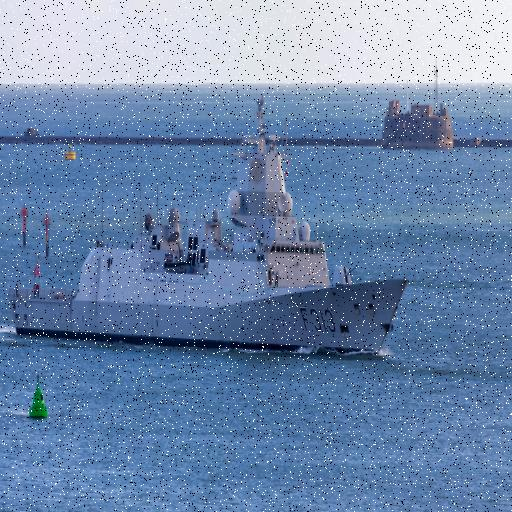Fragata: (9, 83, 413, 361)
